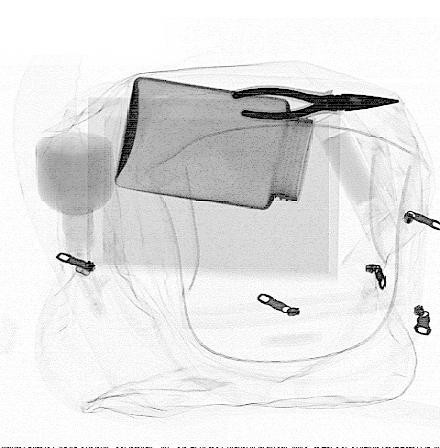Pliers: (228, 84, 401, 123)
